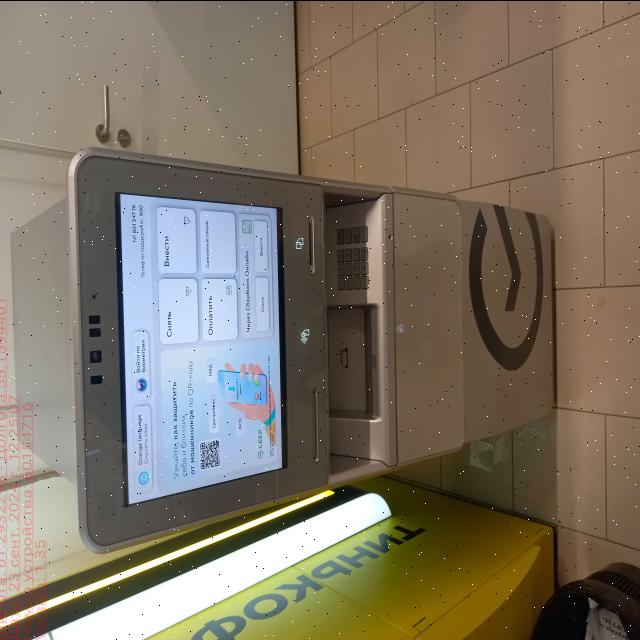bank: (9, 141, 556, 550)
